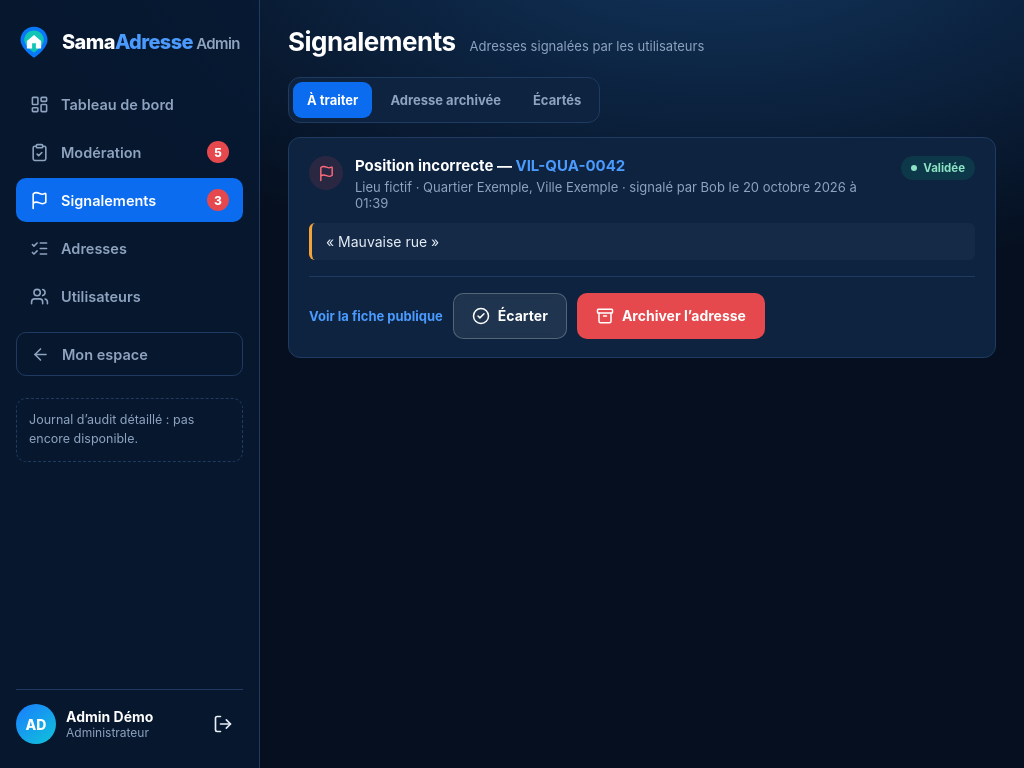
Test case: administration › écarte un signalement après confirmation
This screenshot has width=1024, height=768.
Click the button named "Écarter le signalement sur VIL-QUA-0042": (510, 316) [453,293,567,339]
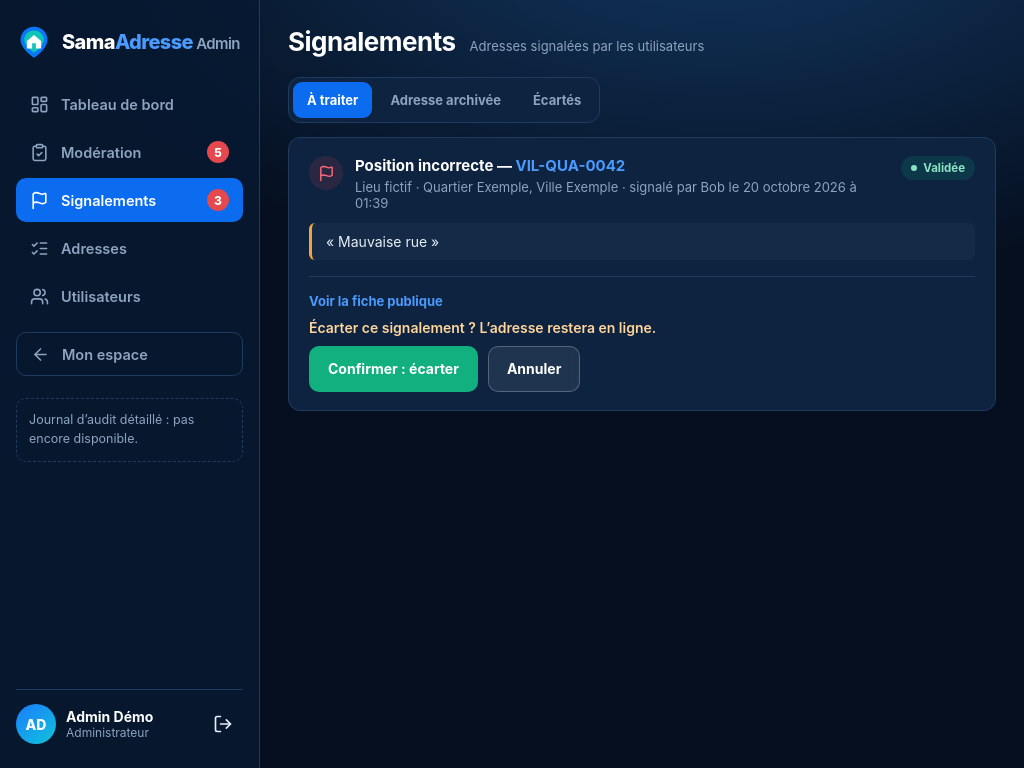
Click the button "Confirmer : écarter": (393, 369) [309,346,478,392]
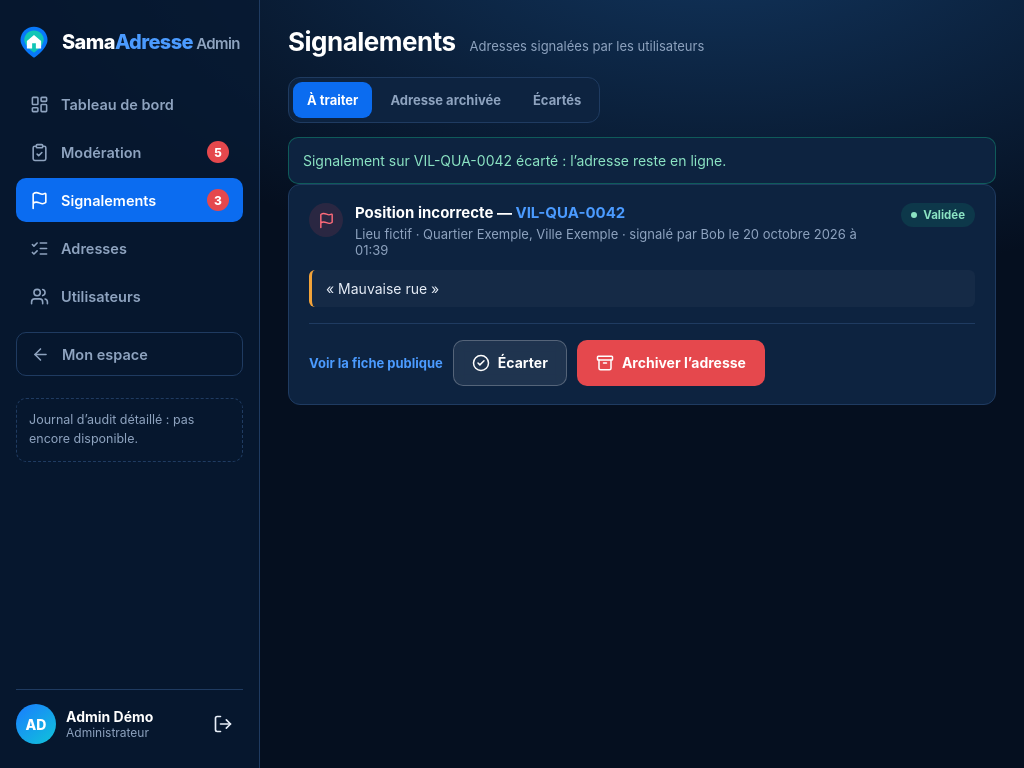
Expected: the text "Signalement sur VIL-QUA-0042 écarté : l’adresse reste en ligne." is shown, [288,137,996,184]
